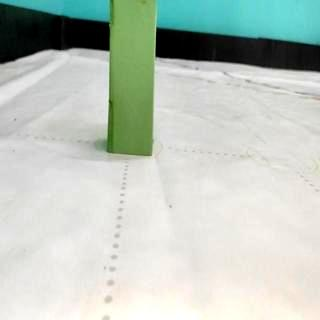greenbox: (109, 0, 156, 156)
